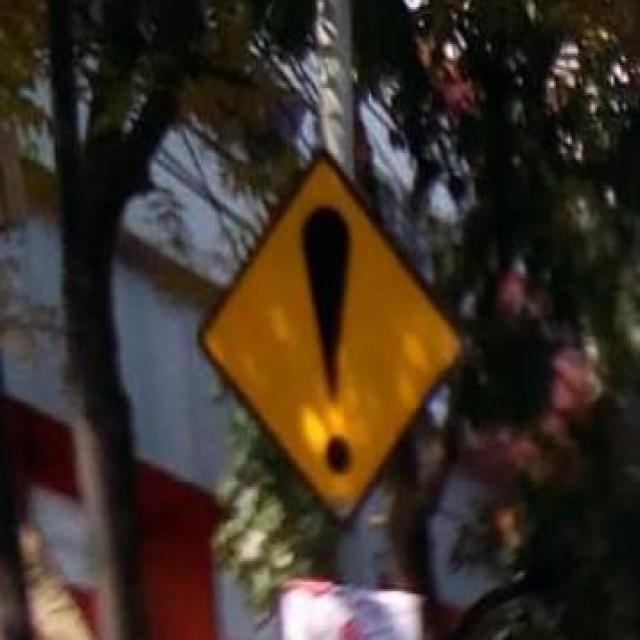traffic sign: (201, 151, 464, 522)
